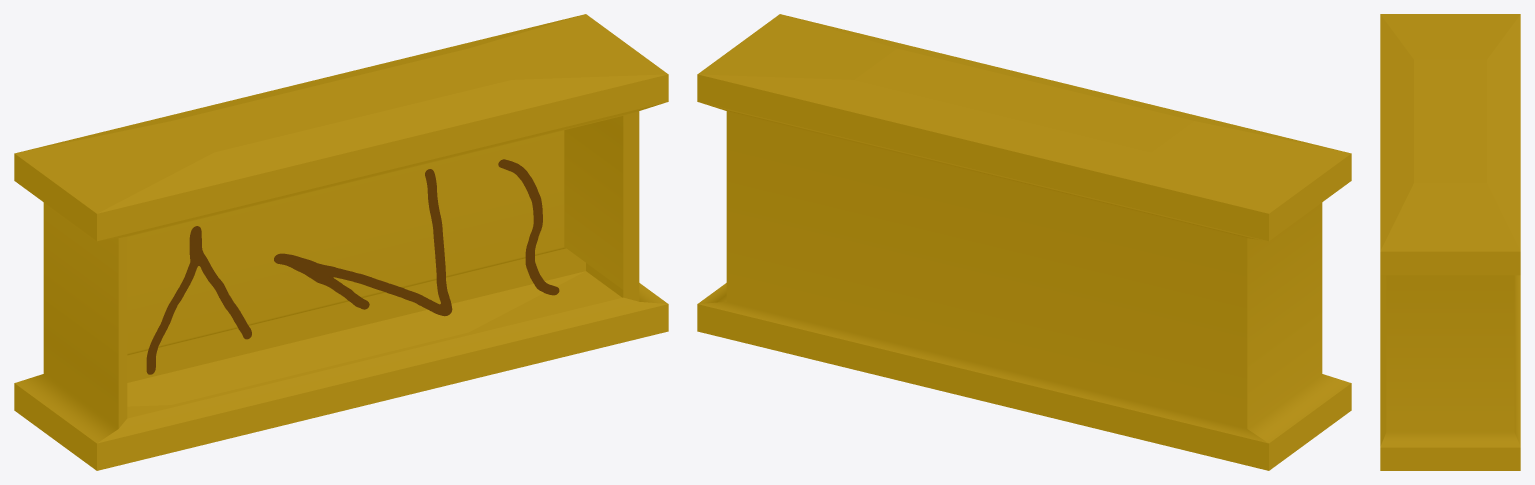
The model's file is Perfect seal.fbx.
The picture shows the model from 3 angles, left to right: view 1: azimuth 30°, elevation 25°; view 2: azimuth 150°, elevation 25°; view 3: azimuth 270°, elevation 25°; orthographic projection. The views are drawn at different scales.
Visible parts, largest first — view 1: pCube1; view 2: pCube1; view 3: pCube1.
Part boxes in pixels (x1,y1,x2,y2): pCube1: (14, 14, 668, 470); pCube1: (697, 14, 1351, 470); pCube1: (1380, 14, 1520, 470).
Bounding box in the file's own units: 21.95 × 10.42 × 5.49.
2 materials, 1 textured.
